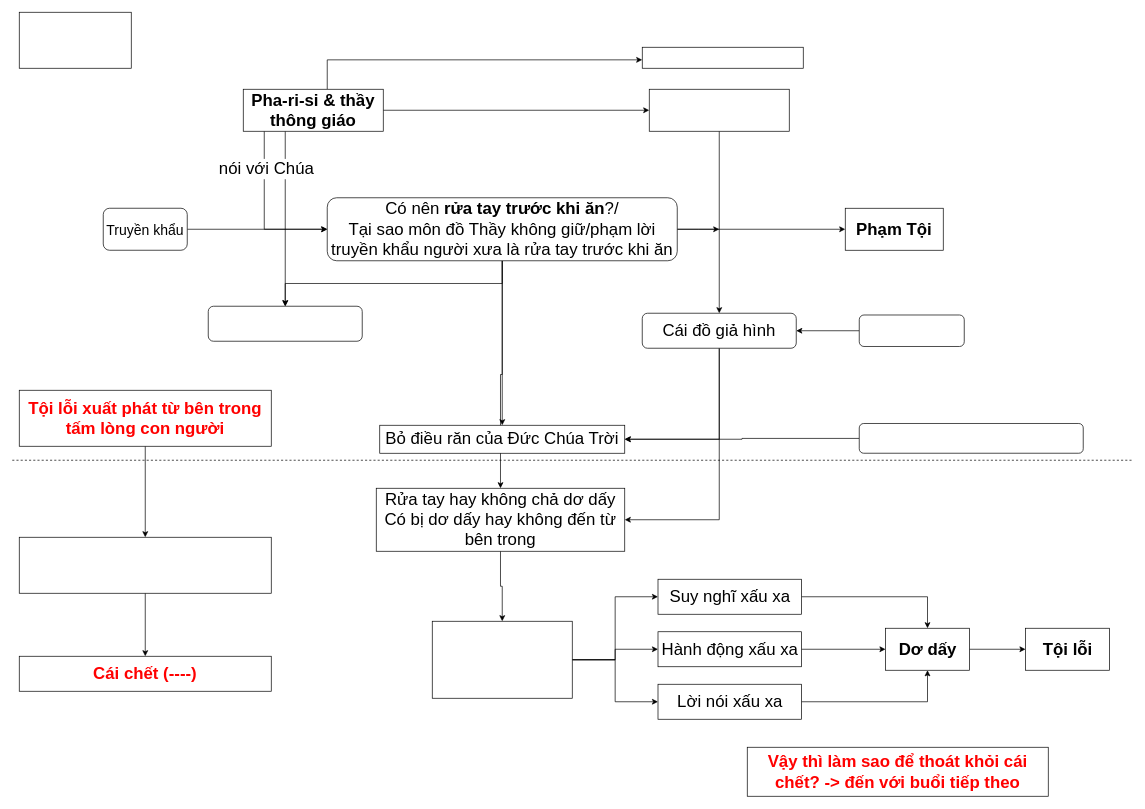
Image size: 1145x809. Some labels were removed from this diagram. Here are the shapes that lost their labels. From the top down, the centre of each, then its label:
At point (75, 40): "MÁC 7:1-21".
At point (722, 57): "Môn đồ Chúa Jesus".
At point (719, 110): "Chúa Jesus".
At point (285, 323): "(Thể hiện)Giữ luật".
At point (911, 330): "Ê-sai".
At point (971, 438): "Minh chứng (điều Chúa nói)".
At point (145, 565): "Mọi người đều phạm tội".
At point (502, 659): "Câu 20-21 Lòng người Tư tương".
